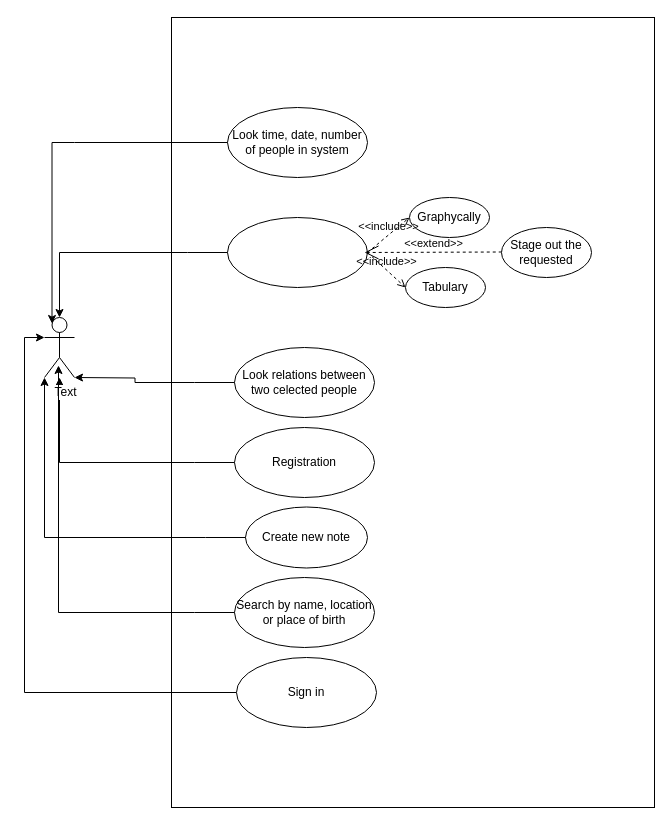
Image size: 672x825. Some labels were removed from this diagram. The shapes that lost their labels are listed below. From the top down, each one's centre as x and y in pixels, then its label:
At (297,252): "Look genealogical tree for selected people".
At (59,347): "User".
